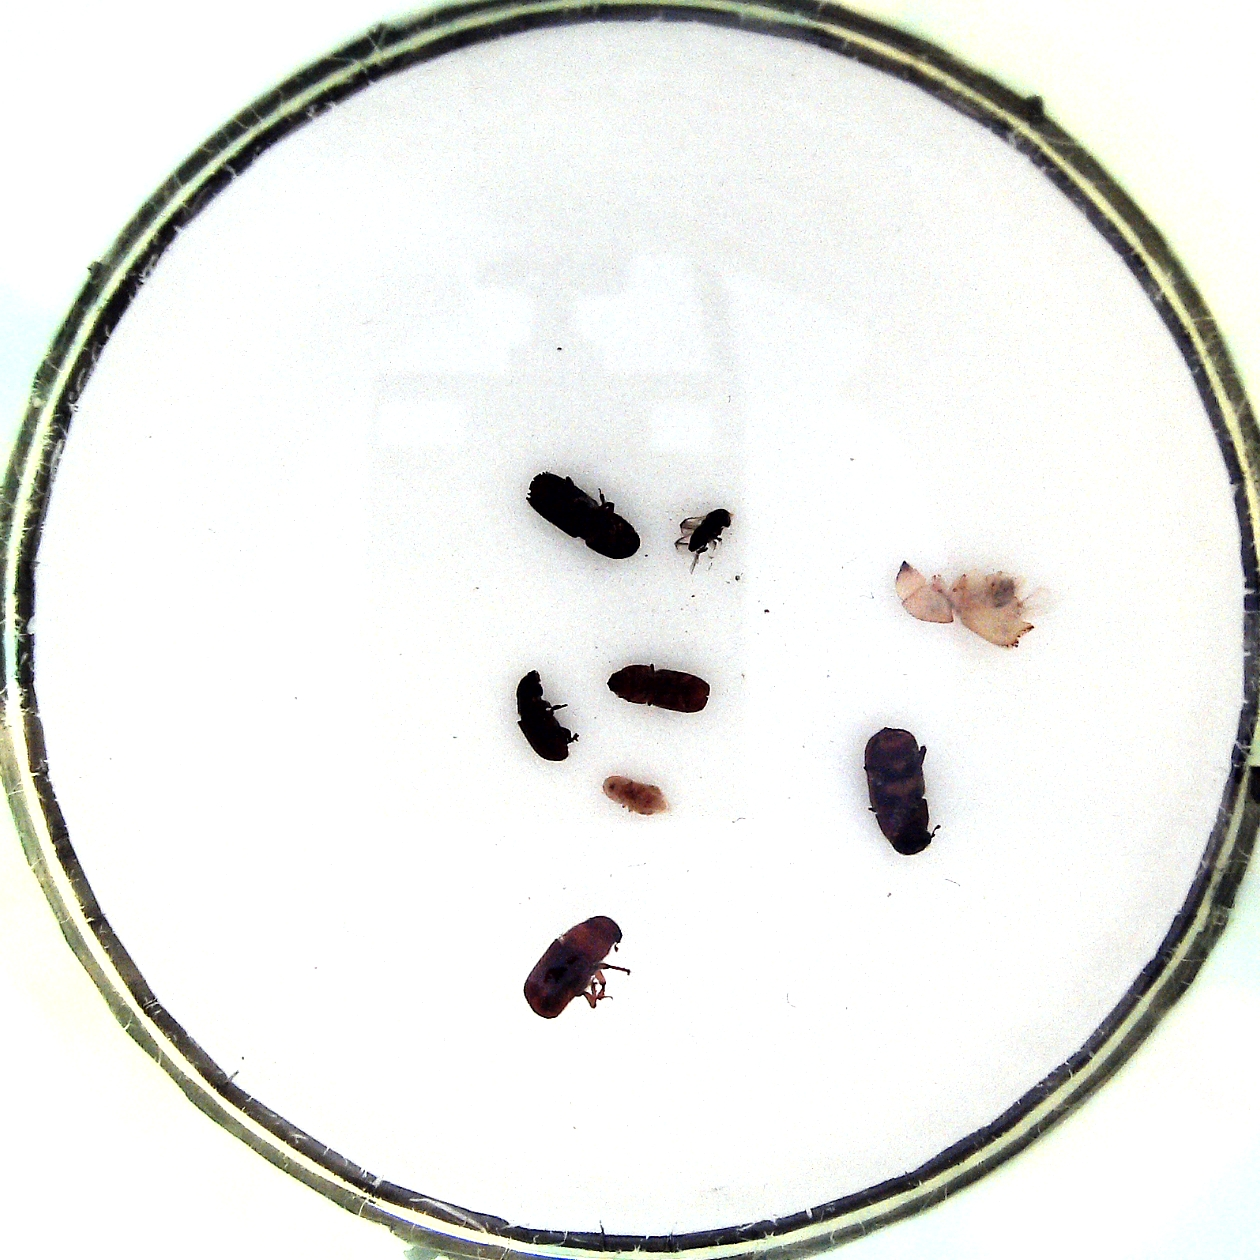Boerner: (891, 555, 1048, 648), (525, 468, 643, 565)
Leconte: (519, 912, 630, 1022), (863, 719, 942, 855)
Linnaeus: (607, 660, 714, 717)
acuminatus: (594, 770, 672, 817)
armandi: (512, 666, 579, 765)
coleoptera: (668, 507, 738, 571)
